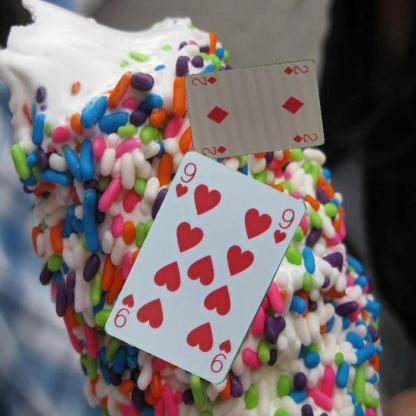2d: (281, 62, 310, 76), (199, 142, 228, 156)
9h: (173, 159, 198, 200), (207, 336, 233, 375)
